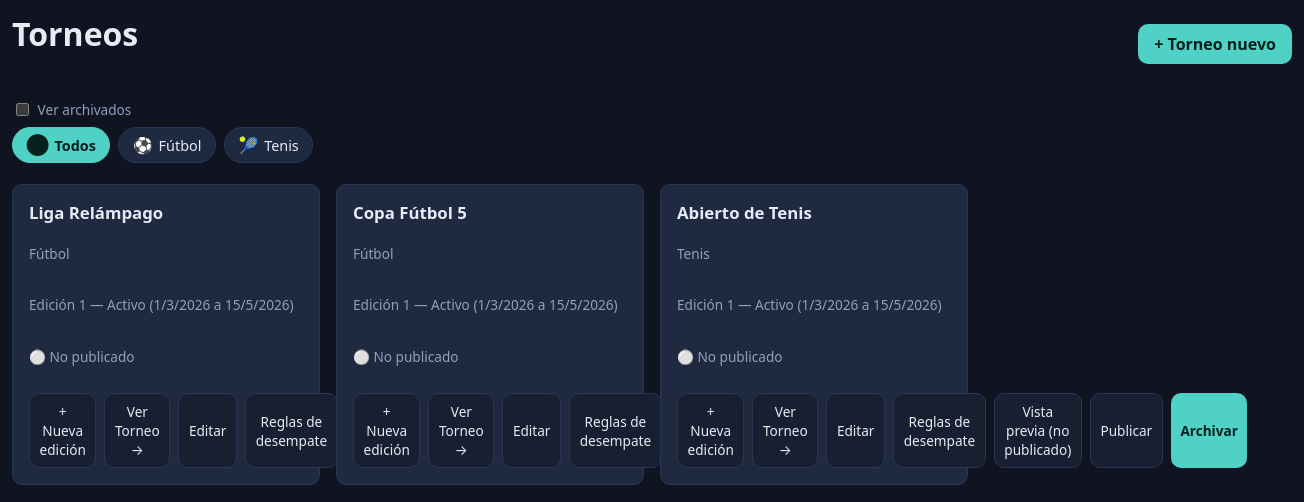
TorneosAdminPage — barra de disciplinas (Fase 2 parte D) › un click en el chip filtra el listado y actualiza el contador
Expected: the heading "Liga Relámpago" is shown, [29, 201, 163, 224]
Expected: the heading "Abierto de Tenis" is shown, [677, 201, 812, 224]
Click the tab "🎾 Tenis" at (269, 145), box [224, 127, 313, 163]
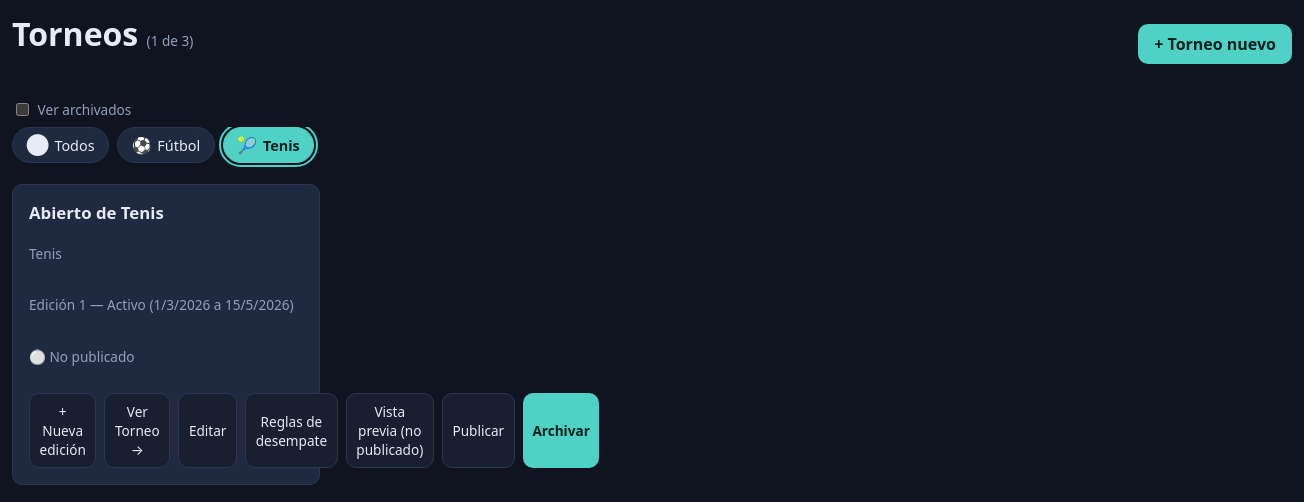
Expected: the heading "Abierto de Tenis" is shown, [29, 201, 164, 224]
Result: the heading "Liga Relámpago" is gone
Result: the text "(1 de 3)" is shown at [147, 31, 193, 50]
